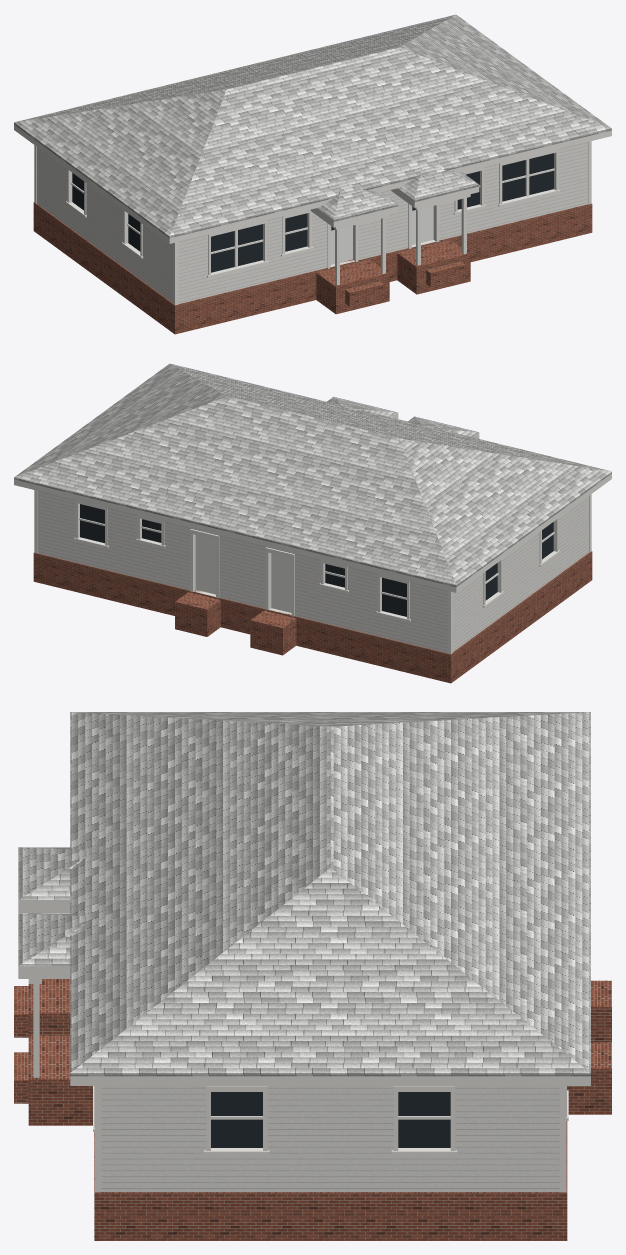
Rendered from duplex-one.glb.
3 views of the same model, one above another, from view 1: azimuth 30°, elevation 25°; view 2: azimuth 150°, elevation 25°; view 3: azimuth 270°, elevation 25° (orthographic). The views are drawn at different scales.
Visible parts, largest first — view 1: House; view 2: House; view 3: House.
Part boxes in pixels (box(x1,y1,x2,y2)): House: box(14, 14, 611, 334); House: box(14, 363, 611, 683); House: box(14, 712, 611, 1240).
Bounding box in the file's own units: 16.4 × 5.79 × 11.48.
Materials: 6 (3 with a texture image).
